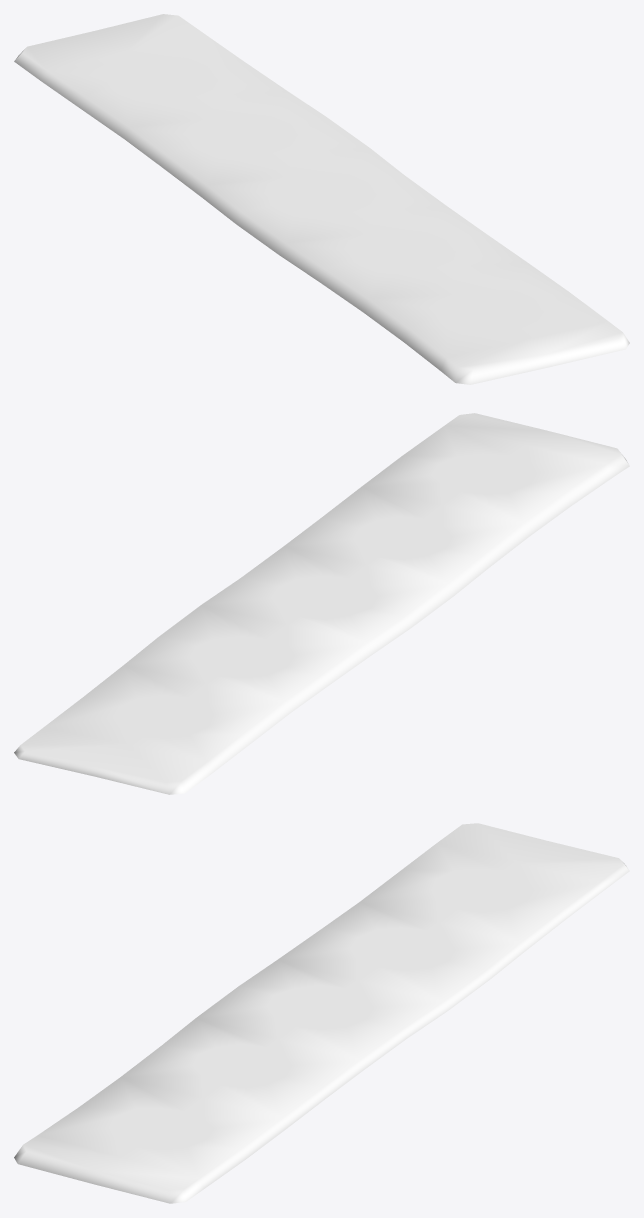
Rendered from Prop_FortuneCoupletPoster.glb.
3 renders of one model, top to bottom at view 1: azimuth 30°, elevation 25°; view 2: azimuth 150°, elevation 25°; view 3: azimuth 330°, elevation 25°, orthographic.
Parts seen in each view (by area): view 1: Prop_FortuneCoupletPoster; view 2: Prop_FortuneCoupletPoster; view 3: Prop_FortuneCoupletPoster.
Part boxes in pixels (<box>): Prop_FortuneCoupletPoster: <box>14,14,629,384</box>; Prop_FortuneCoupletPoster: <box>14,413,629,794</box>; Prop_FortuneCoupletPoster: <box>14,823,629,1203</box>.
Size of the model in its own units: 4.46 by 0.2907 by 20.02.
1 material, 1 textured.
